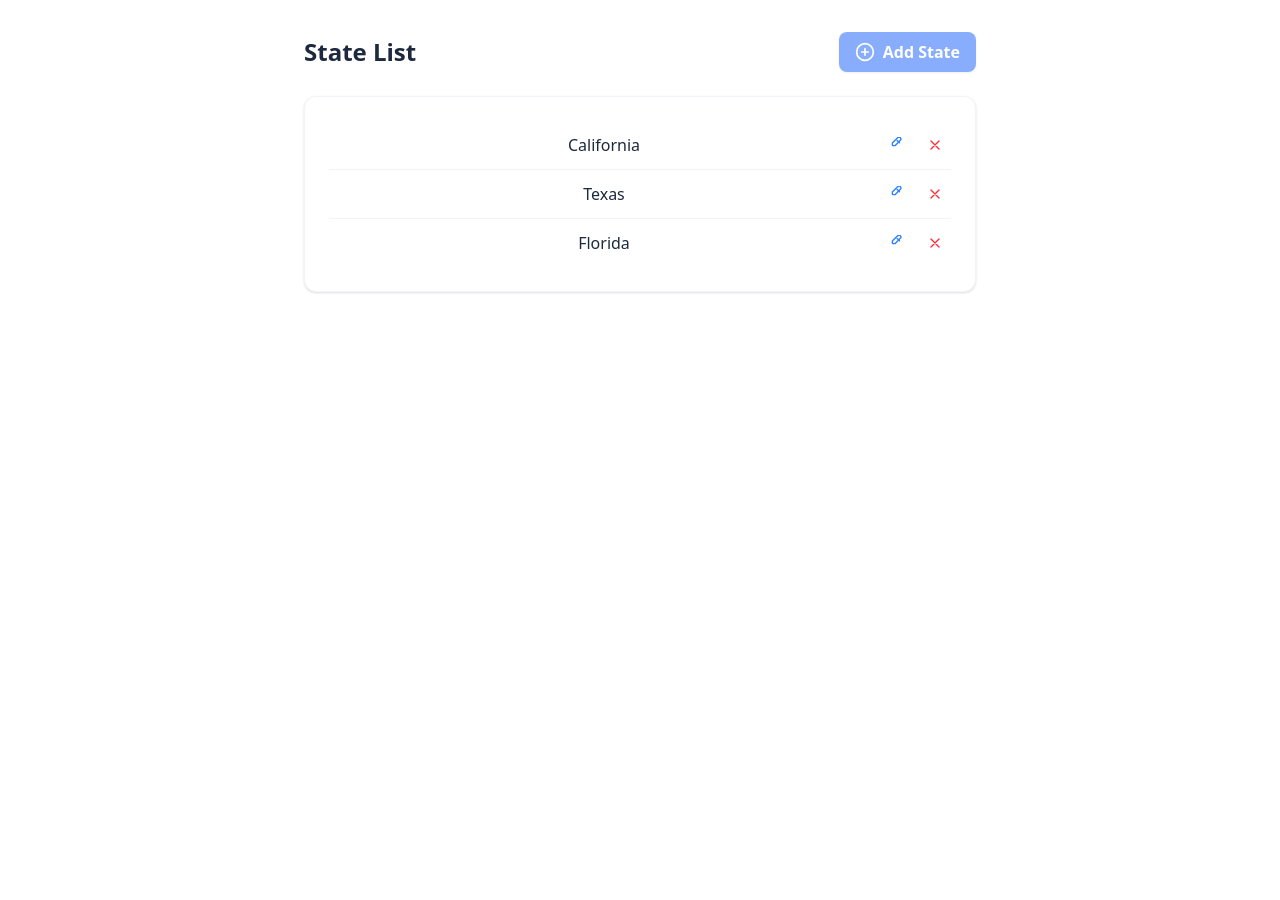
StateSelector › should show loading state in edit modal when updating
Click the 2nd button at (895, 145), box 879,133 -> 911,157
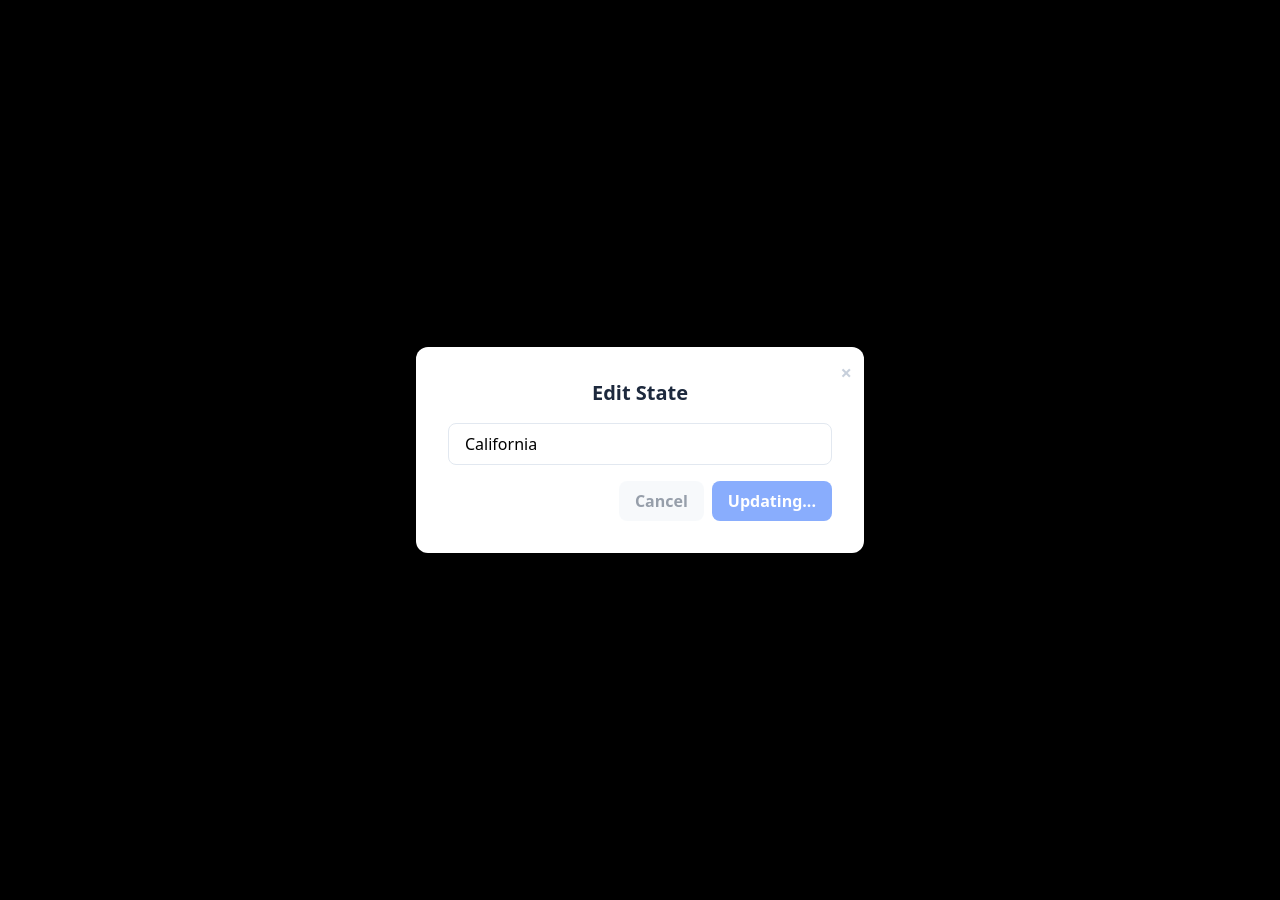
Now the button "Updating..." is shown, box 712,481 -> 832,521
